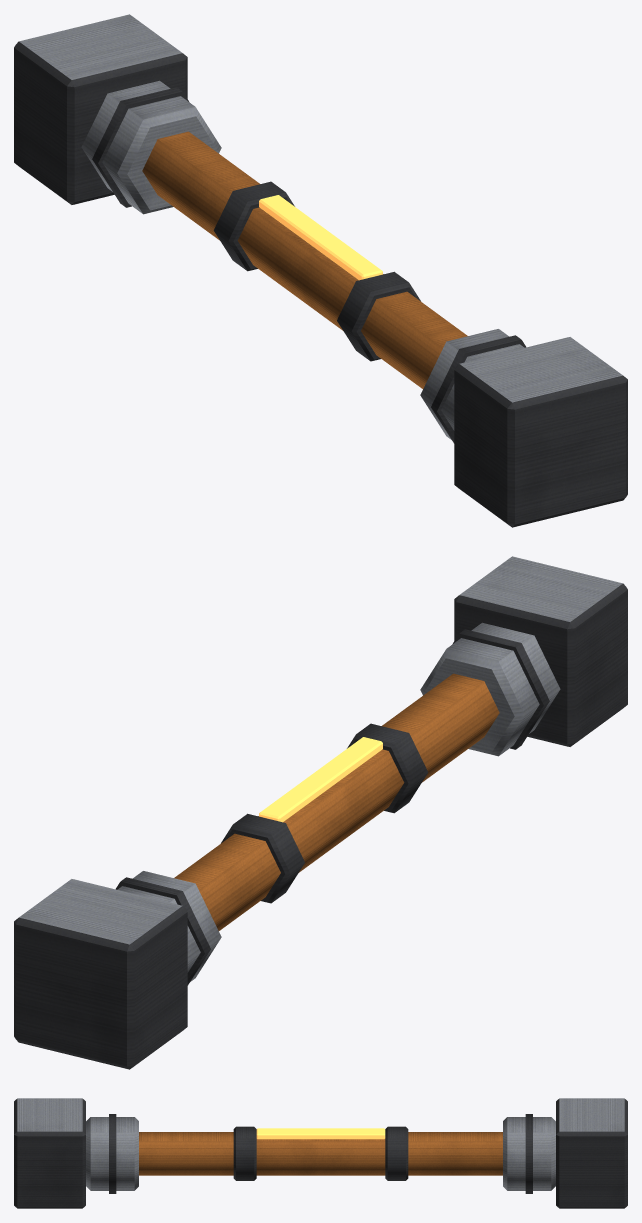
Rendered from R4C_ROD_STANDARD_LOD1.glb.
3 views of the same model, one above another, from view 1: azimuth 30°, elevation 25°; view 2: azimuth 150°, elevation 25°; view 3: azimuth 270°, elevation 25° (orthographic). The views are drawn at different scales.
Visible parts, largest first — view 1: R4C_ROD_STANDARD_LOD1; view 2: R4C_ROD_STANDARD_LOD1; view 3: R4C_ROD_STANDARD_LOD1.
Boxes of the visible parts, <box> form: R4C_ROD_STANDARD_LOD1: <box>14,14,627,527</box>; R4C_ROD_STANDARD_LOD1: <box>14,556,627,1069</box>; R4C_ROD_STANDARD_LOD1: <box>14,1098,627,1208</box>.
Size of the model in its own units: 0.226 by 0.224 by 1.62.
4 materials, 3 textured.
